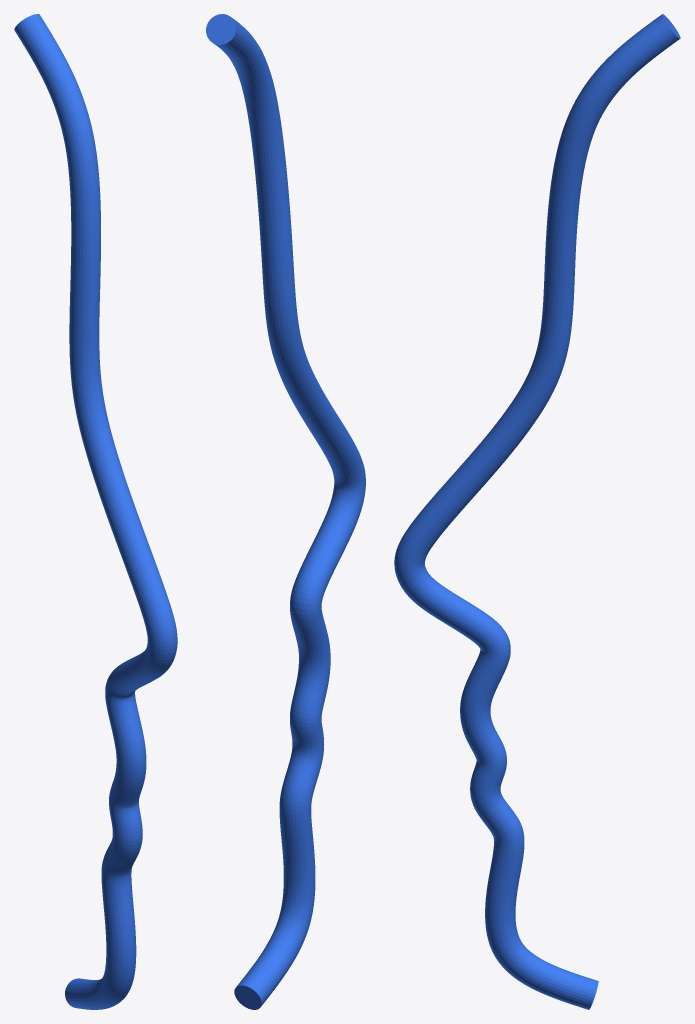
Rendered from faces31 - lineprofile.glb.
The picture shows the model from 3 angles, left to right: view 1: azimuth 30°, elevation 25°; view 2: azimuth 150°, elevation 25°; view 3: azimuth 270°, elevation 25°; orthographic projection. The views are drawn at different scales.
Parts seen in each view (by area): view 1: Tube; view 2: Tube; view 3: Tube.
Part boxes in pixels (x1,y1,x2,y2): Tube: (14, 14, 177, 1009); Tube: (206, 14, 365, 1009); Tube: (394, 14, 680, 1009).
Bounding box in the file's own units: 0.0636 × 1.52 × 0.4006.
